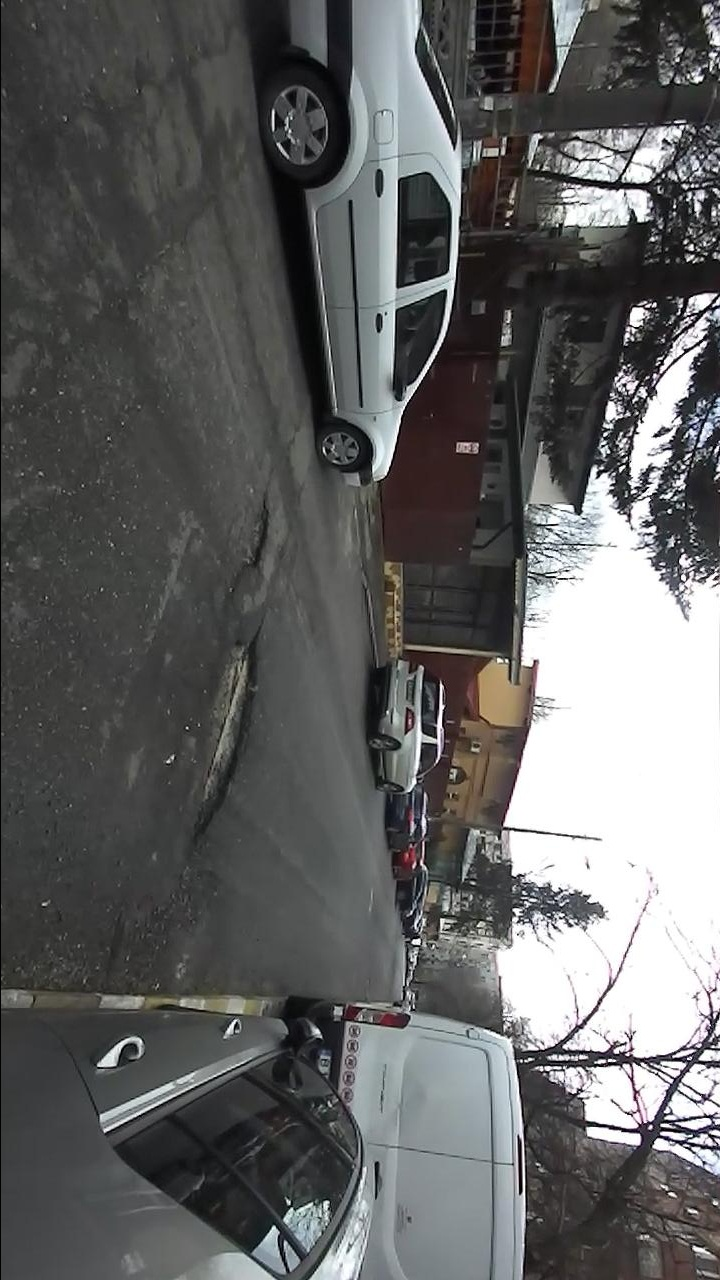pothole: (184, 628, 267, 856), (231, 491, 274, 587)
